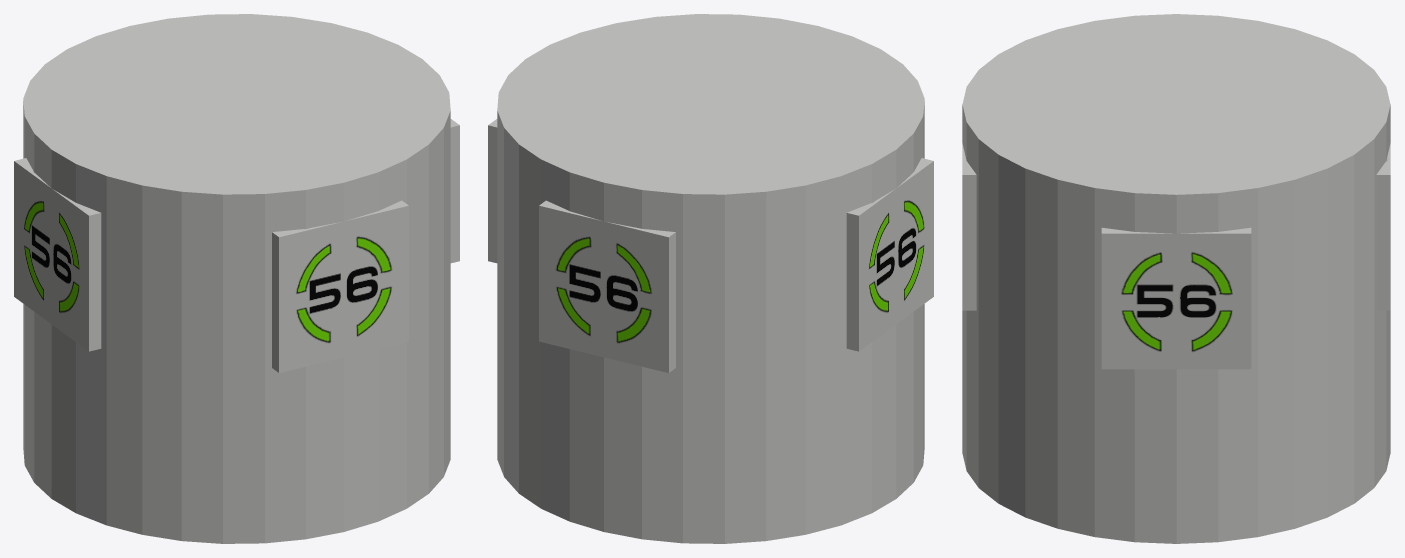
The model's file is tour56.dae.
The picture shows the model from 3 angles, left to right: view 1: azimuth 30°, elevation 25°; view 2: azimuth 150°, elevation 25°; view 3: azimuth 270°, elevation 25°; orthographic projection.
Parts seen in each view (by area): view 1: Cylinder, Cube, Cube.003, Cube.002; view 2: Cylinder, Cube.001, Cube.003, Cube.002; view 3: Cylinder, Cube.002, Cube.001, Cube.
Part boxes in pixels (x1,y1,x2,y2): Cylinder: (23,14,450,543); Cube: (272,200,408,372); Cube.003: (14,158,101,351); Cube.002: (450,119,459,263); Cylinder: (497,14,924,543); Cube.001: (539,200,675,372); Cube.003: (846,158,933,351); Cube.002: (488,119,497,263); Cylinder: (962,14,1390,543); Cube.002: (1101,227,1251,369); Cube.001: (1376,143,1390,310); Cube: (962,143,976,310).
Size of the model in its own units: 4 by 4 by 3.6.
Materials: 2 (2 with a texture image).
